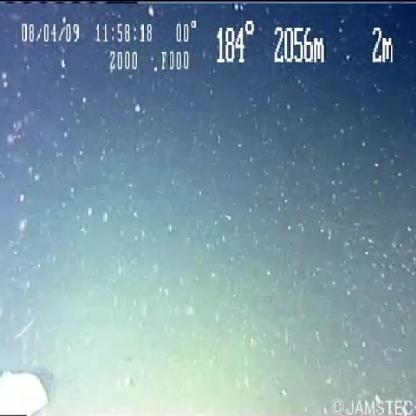Rác: (1, 363, 48, 416)
